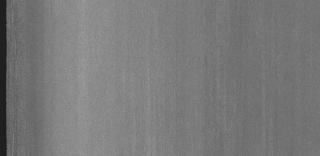silk spot: (196, 3, 230, 58)
